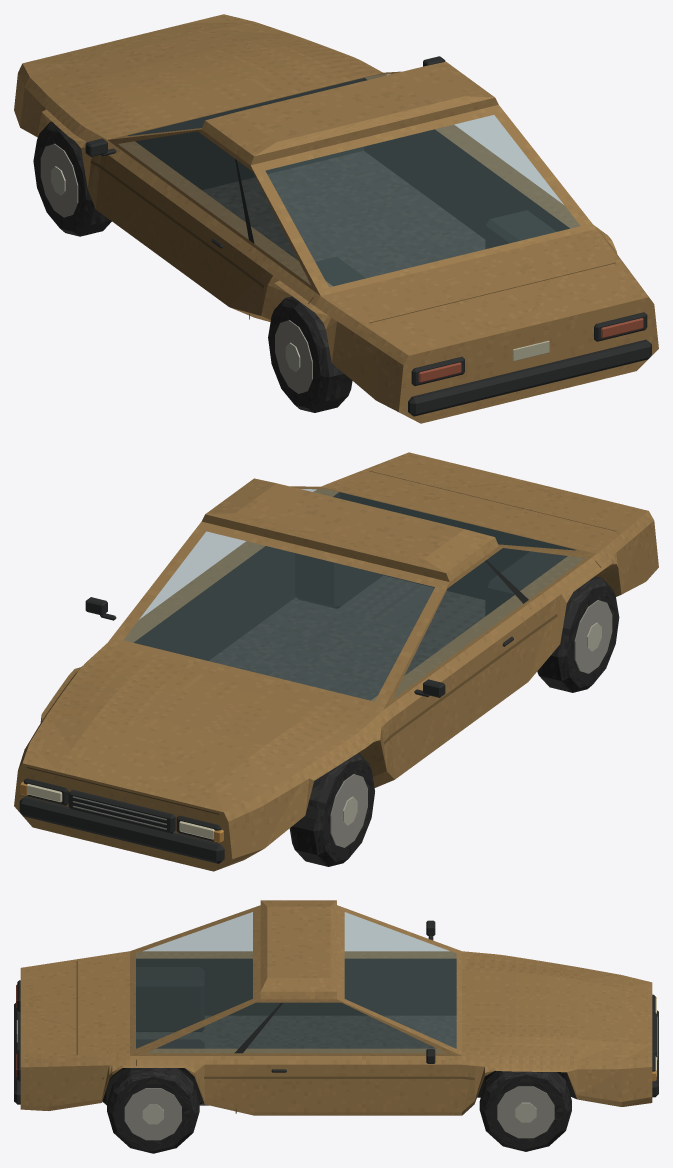
Rendered from vehicle_sports.glb.
3 views of the same model, one above another, from view 1: azimuth 30°, elevation 25°; view 2: azimuth 150°, elevation 25°; view 3: azimuth 270°, elevation 25° (orthographic). The views are drawn at different scales.
Visible parts, largest first — view 1: closed_body, glazing, roof_body; view 2: closed_body, glazing, roof_body; view 3: closed_body, glazing, roof_body.
Boxes of the visible parts, x1=… form: closed_body: x1=14, y1=14, x2=658, y2=423; glazing: x1=118, y1=74, x2=579, y2=287; roof_body: x1=201, y1=61, x2=498, y2=165; closed_body: x1=14, y1=452, x2=658, y2=871; glazing: x1=124, y1=489, x2=585, y2=701; roof_body: x1=201, y1=478, x2=498, y2=581; closed_body: x1=14, y1=905, x2=658, y2=1153; glazing: x1=136, y1=912, x2=456, y2=1053; roof_body: x1=260, y1=900, x2=336, y2=999.
Bounding box in the file's own units: 2.21 × 1.2 × 4.46.
2 materials, 2 textured.
